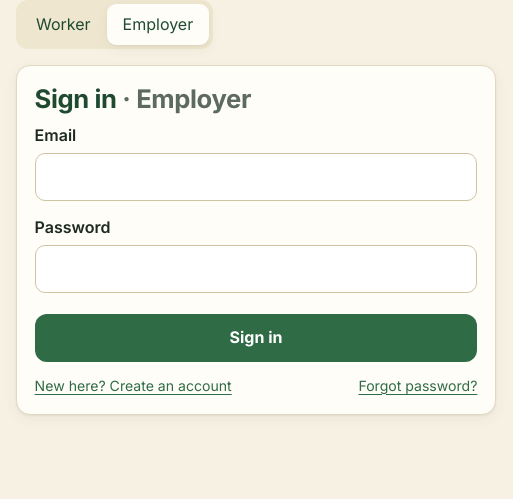
Test: sign in › shows the server message when the account belongs to the other portal
This screenshot has width=513, height=499.
Type "asha@example.com" into the field labelled "Email" at point(256, 177), box [35,153,477,201]
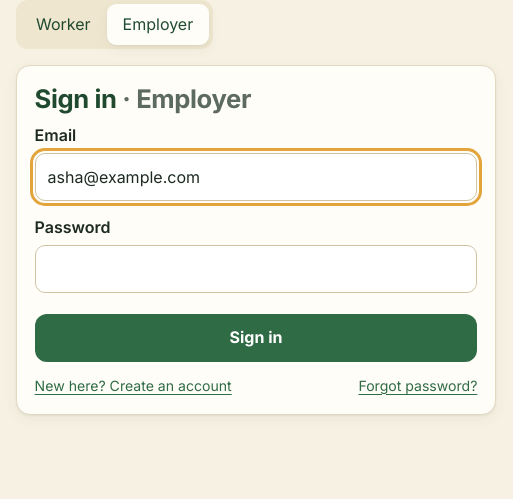
Type "Passw0rd!" into the password field labelled "Password" at point(256, 269), box [35,245,477,293]
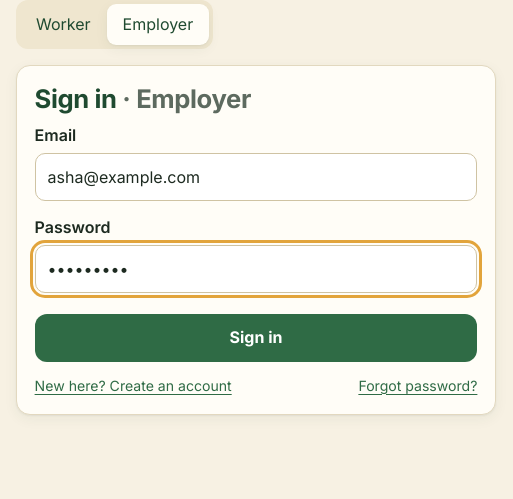
Click the button "Sign in" at point(256, 338), box [35,314,477,362]
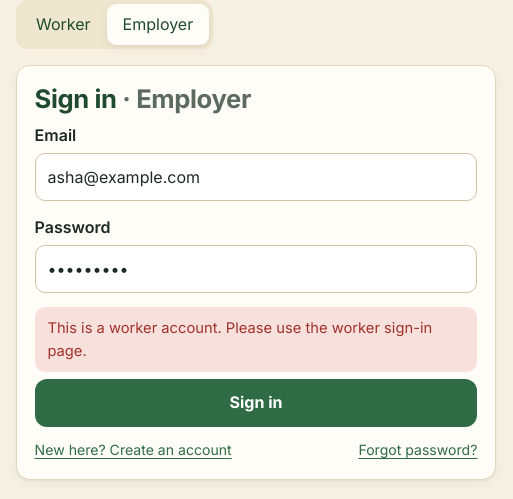
Now the message shows "worker account", box [47,319,432,360]
